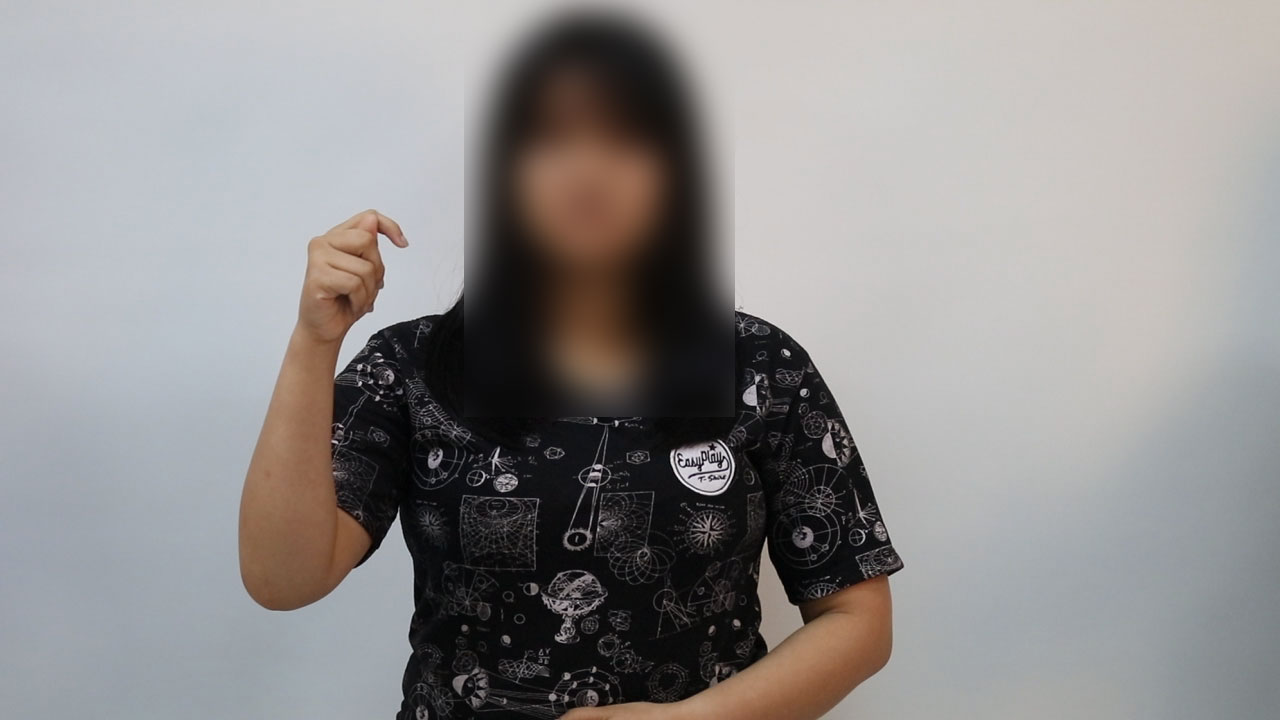tor: (276, 194, 418, 352)
